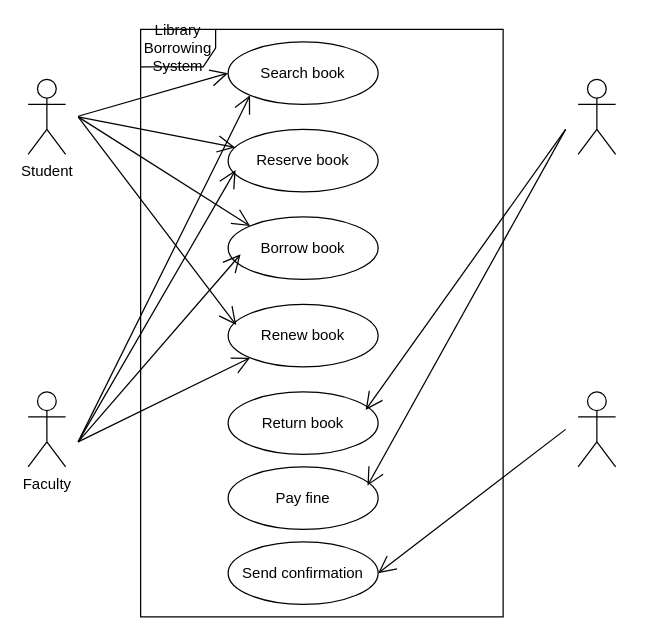
This 664x639 diagram has some shape labels left out. The shapes that lost their labels are listed below. From the top down, each one's centre as x and y in pixels, then its label:
At point 596,116: "Librarian".
At point 596,429: "Email System".
